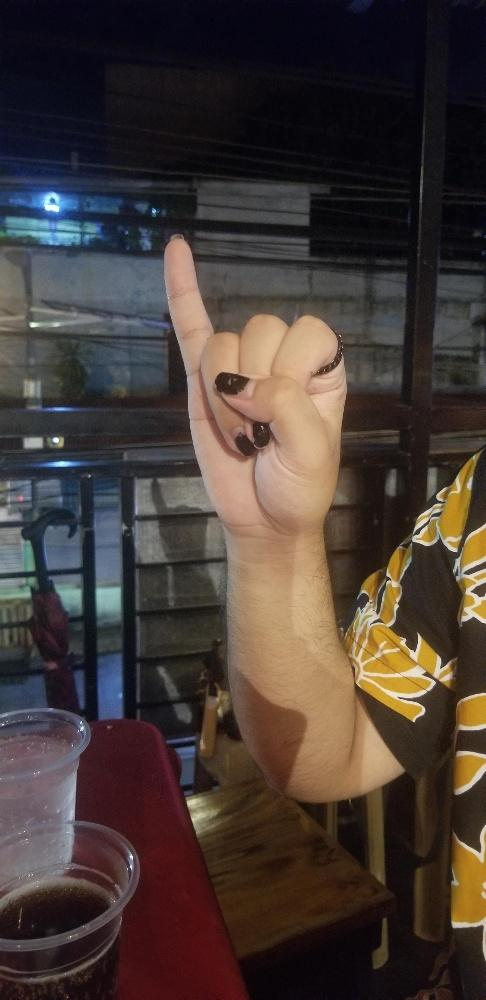i: (160, 235, 350, 524)
